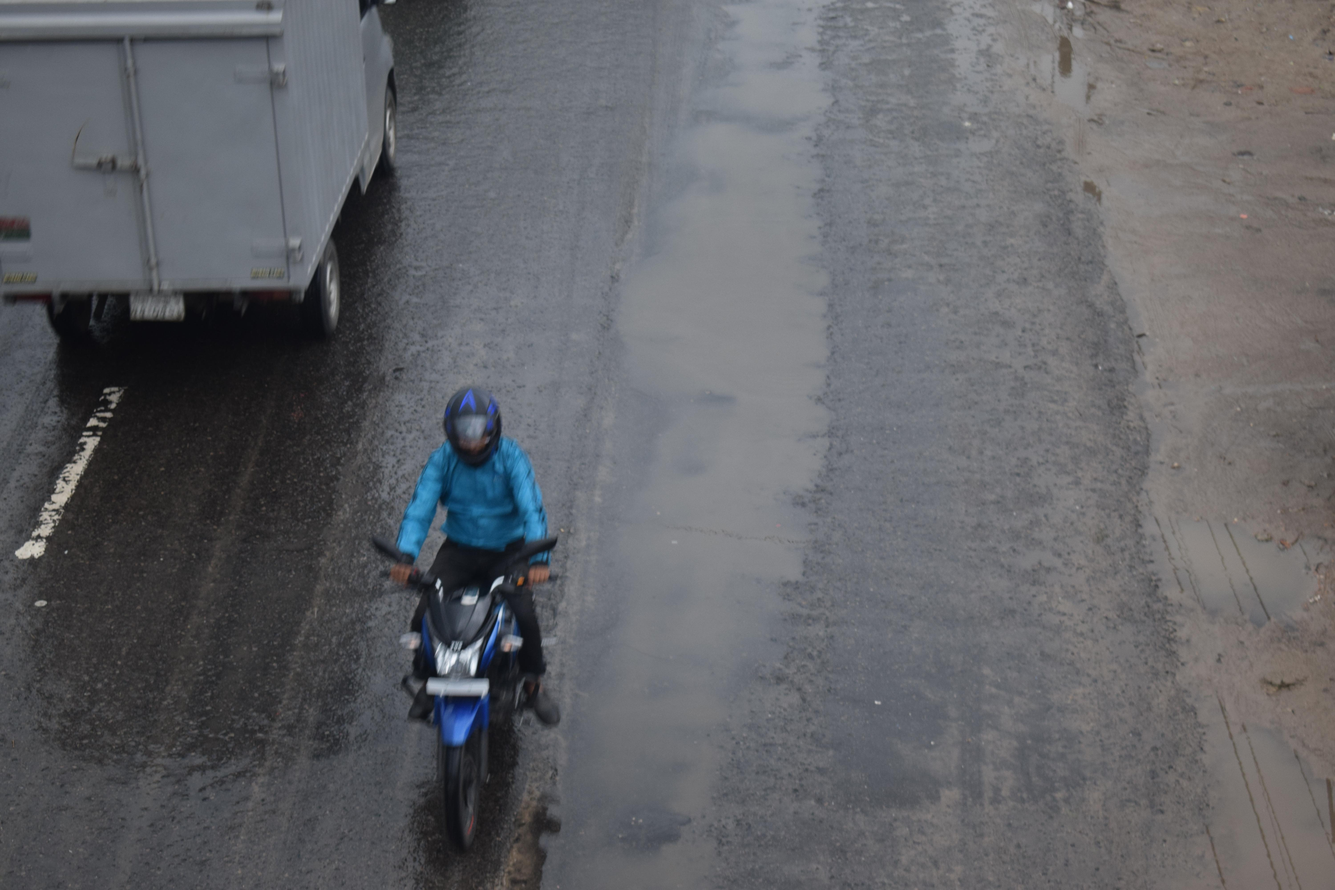Bike: (268, 327, 694, 883)
Truck: (0, 0, 442, 371)
